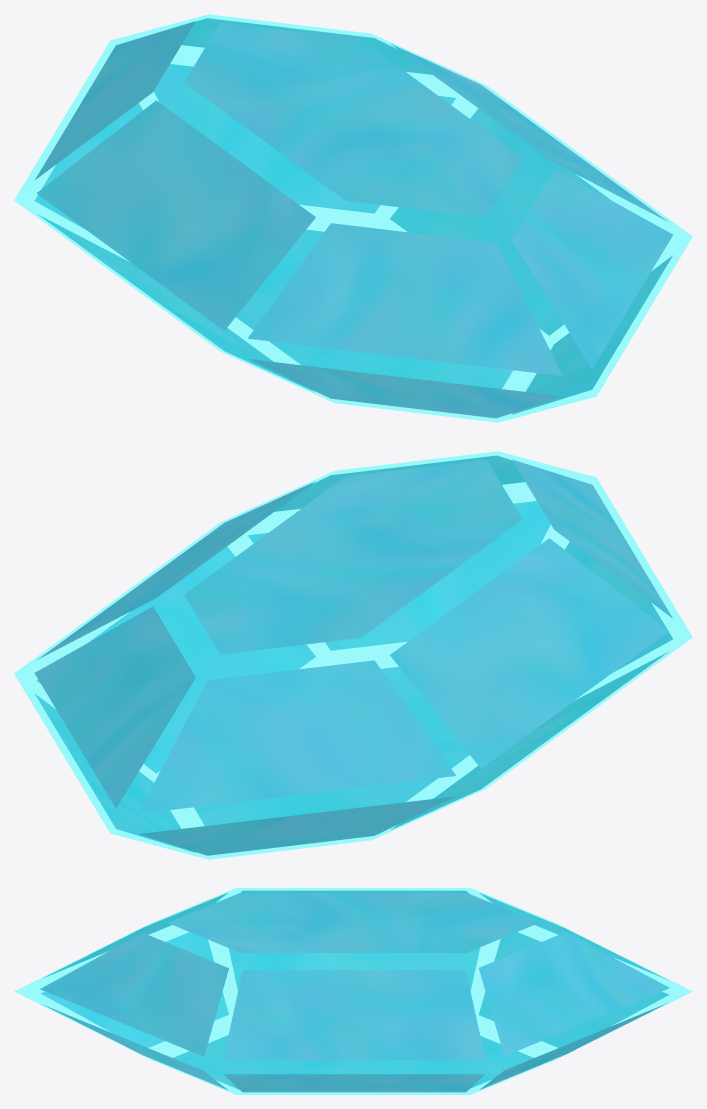
The model's file is Crystal.glb.
The picture shows the model from 3 angles, top to bottom: view 1: azimuth 30°, elevation 25°; view 2: azimuth 150°, elevation 25°; view 3: azimuth 270°, elevation 25°; orthographic projection. The views are drawn at different scales.
Visible parts, largest first — view 1: Crystal; view 2: Crystal; view 3: Crystal.
Boxes of the visible parts, <box> form: Crystal: <box>14,14,692,422</box>; Crystal: <box>14,451,692,859</box>; Crystal: <box>14,888,692,1094</box>.
Size of the model in its own units: 0.2242 by 0.0892 by 0.3998.
2 materials, 1 textured.
